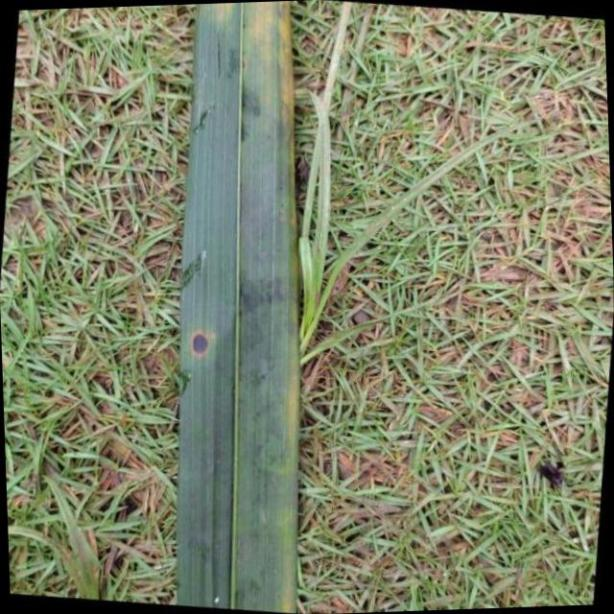Megnesium: (168, 0, 297, 614)
